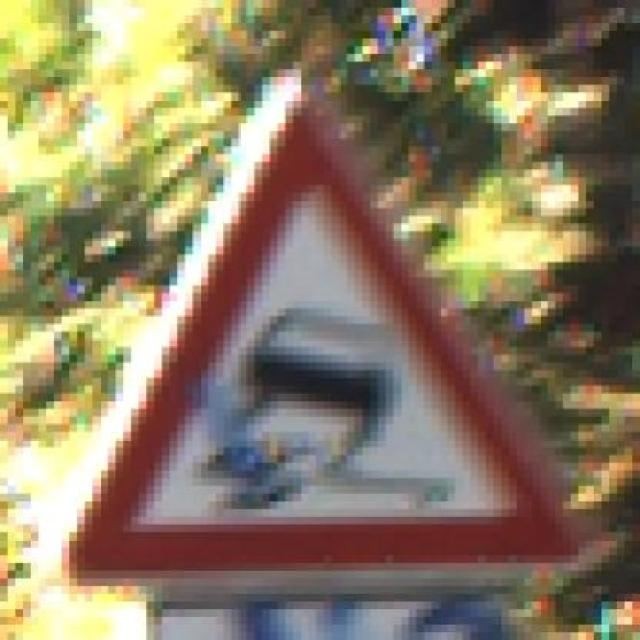Slippery Road Ahead: (62, 46, 570, 594)
